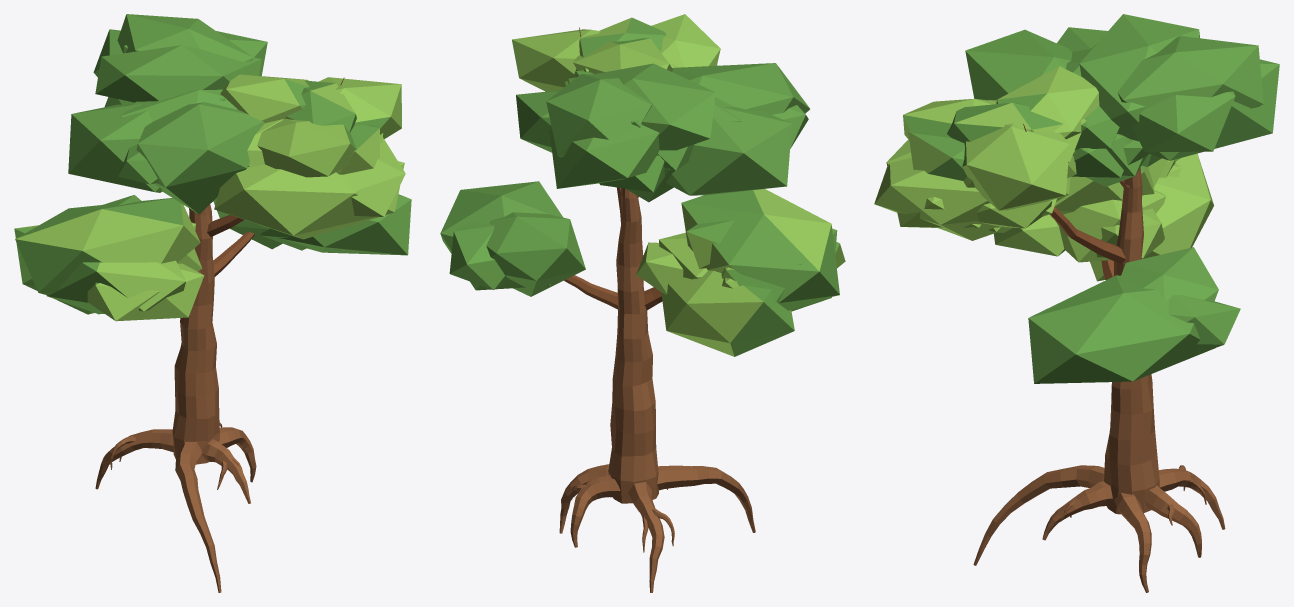
Rendered from tree2.fbx.
3 renders of one model, left to right at view 1: azimuth 30°, elevation 25°; view 2: azimuth 150°, elevation 25°; view 3: azimuth 270°, elevation 25°, orthographic. The views are drawn at different scales.
Visible parts, largest first — view 1: TreeLeaves, TreeWood; view 2: TreeLeaves, TreeWood; view 3: TreeLeaves, TreeWood.
Part boxes in pixels (x1,y1,x2,y2): TreeLeaves: (14,14,411,321); TreeWood: (95,77,344,592); TreeLeaves: (440,14,845,356); TreeWood: (559,27,755,592); TreeLeaves: (874,14,1279,383); TreeWood: (973,124,1225,592).
Bounding box in the file's own units: 8.8 × 11.02 × 7.43.
